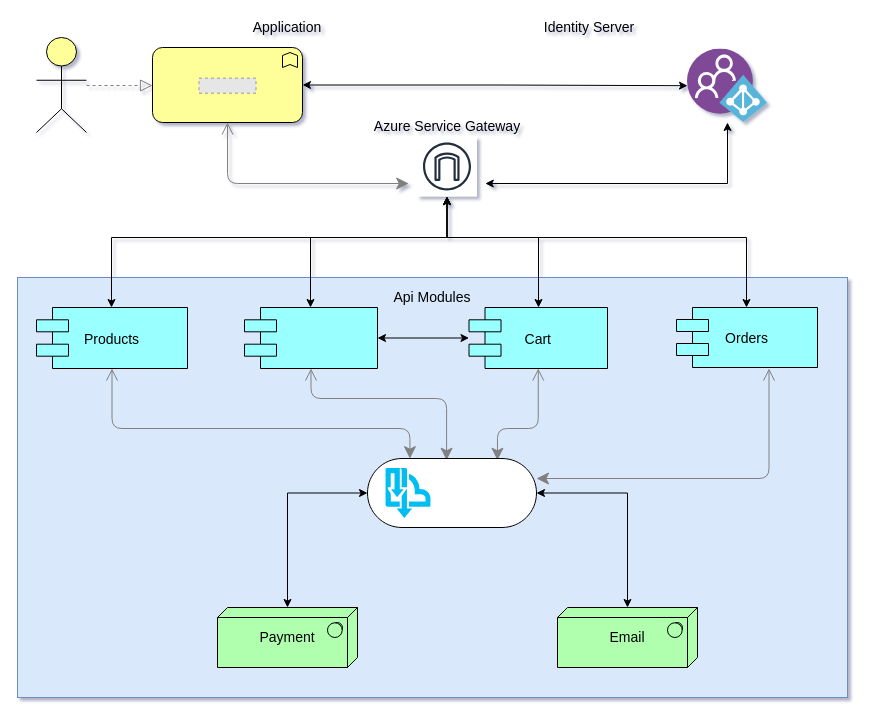
Image size: 871x721. Some labels were removed from this diagram. Grey dashed boxes stand in for pictures. The box of each missing label's shape, as (x1, y1, x2, y2) in pixels:
Coupon: (244, 306, 378, 368)
Internet gateway: (416, 136, 477, 196)
Service bus: (366, 458, 536, 528)
